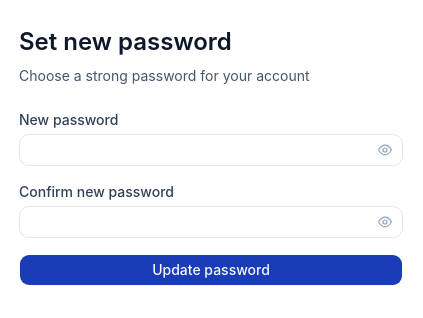
ResetPasswordPage › показывает generic-ошибку при сетевом сбое (не 422)
In the password field labelled "New password": point(211, 150) [19,134,403,166], type "NewPass1!"
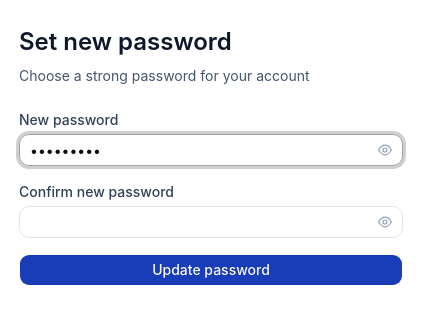
In the password field labelled "Confirm new password": point(211, 222) [19,206,403,238], type "NewPass1!"
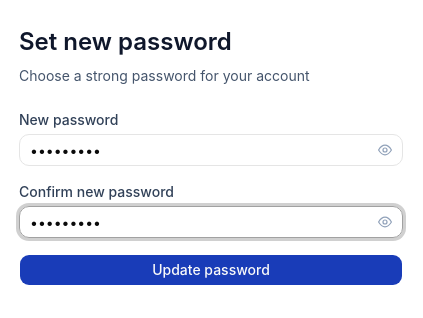
Click the button "Update password": point(211, 270) [19,254,403,286]
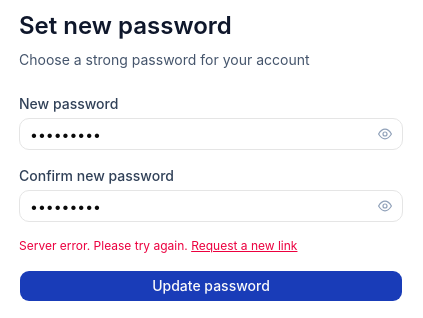
Result: the text "Server error. Please try again. Request a new link" is shown at [19,238,298,253]
